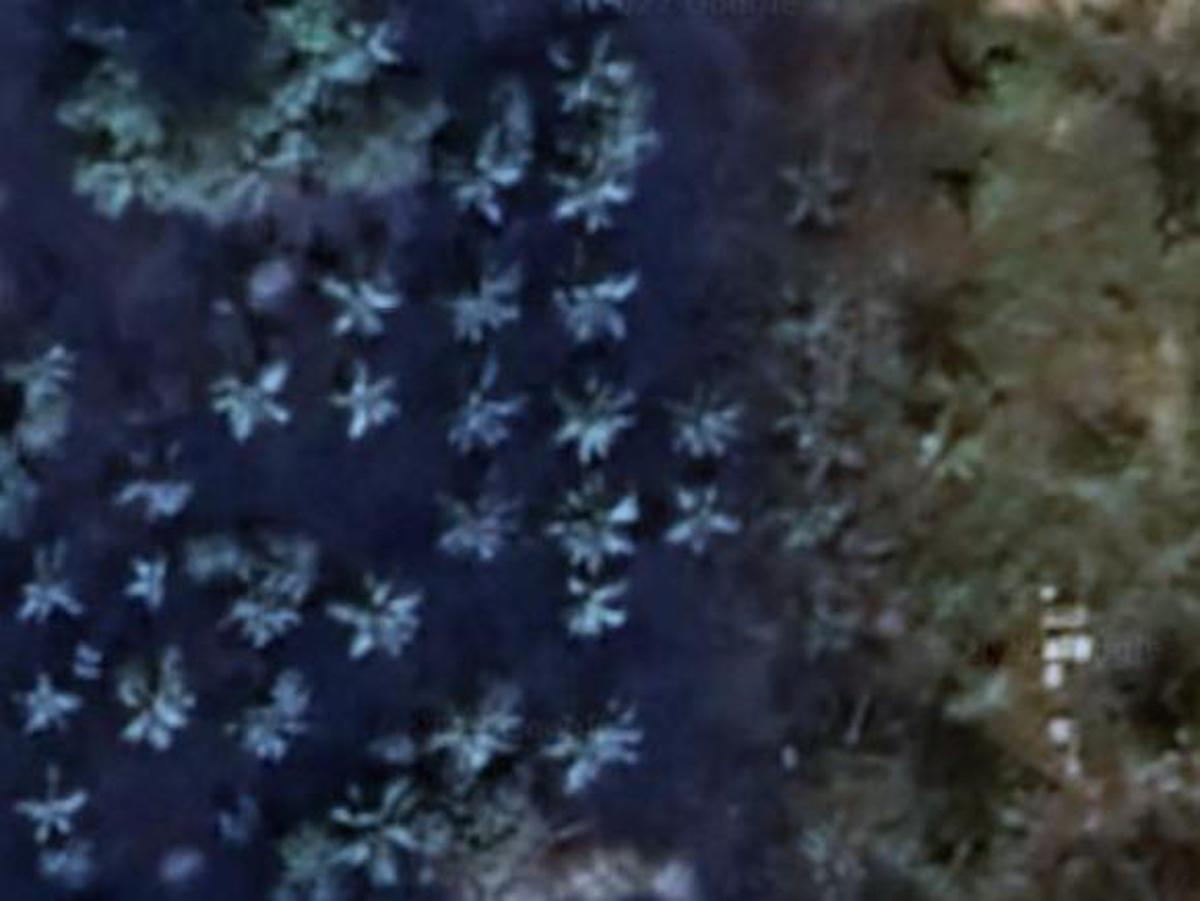coconut: (105, 636, 208, 758), (208, 541, 313, 653), (324, 781, 439, 878), (545, 16, 634, 115), (547, 702, 644, 791), (334, 574, 423, 667), (227, 671, 316, 764), (549, 477, 646, 562), (660, 477, 753, 562), (431, 258, 518, 345), (439, 483, 520, 576), (4, 547, 97, 628), (435, 126, 522, 212), (547, 374, 632, 462), (551, 256, 640, 340), (553, 152, 640, 237), (437, 367, 522, 452), (212, 355, 289, 446), (119, 442, 202, 520), (332, 357, 404, 446), (318, 260, 404, 334), (18, 762, 95, 836), (10, 667, 86, 741), (667, 386, 745, 458), (549, 570, 625, 638), (791, 157, 863, 225), (119, 543, 177, 609)
